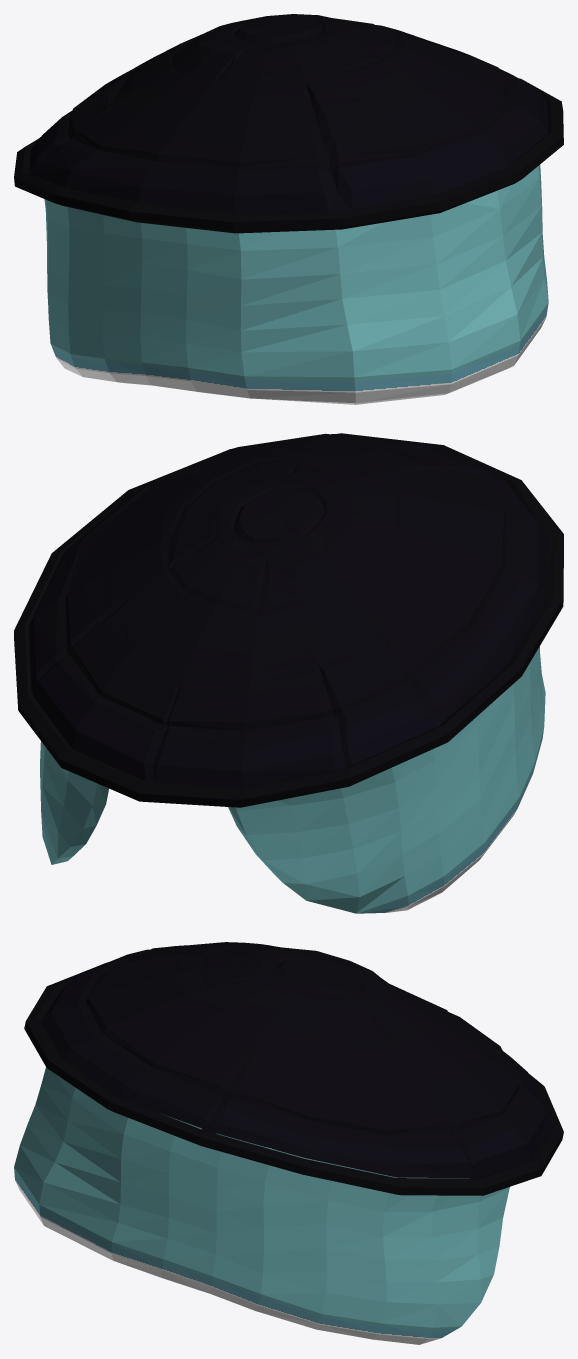
Rendered from CharSkyKid_Hat_NatureWaterVeil.glb.
The picture shows the model from 3 angles, top to bottom: view 1: azimuth 30°, elevation 25°; view 2: azimuth 150°, elevation 25°; view 3: azimuth 270°, elevation 25°; orthographic projection. The views are drawn at different scales.
Visible parts, largest first — view 1: CharSkyKid_Hat_NatureWaterVeil; view 2: CharSkyKid_Hat_NatureWaterVeil; view 3: CharSkyKid_Hat_NatureWaterVeil.
Part boxes in pixels (left/top/right/bottom): CharSkyKid_Hat_NatureWaterVeil: left=14, top=14, right=563, bottom=404; CharSkyKid_Hat_NatureWaterVeil: left=14, top=433, right=563, bottom=913; CharSkyKid_Hat_NatureWaterVeil: left=14, top=942, right=563, bottom=1344.
Bounding box in the file's own units: 5.73 × 4.07 × 6.56.
1 material, 1 textured.
